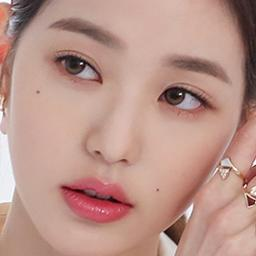face: (12, 0, 238, 256)
